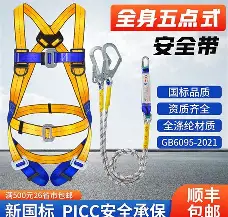safety belt: (6, 2, 112, 189)
